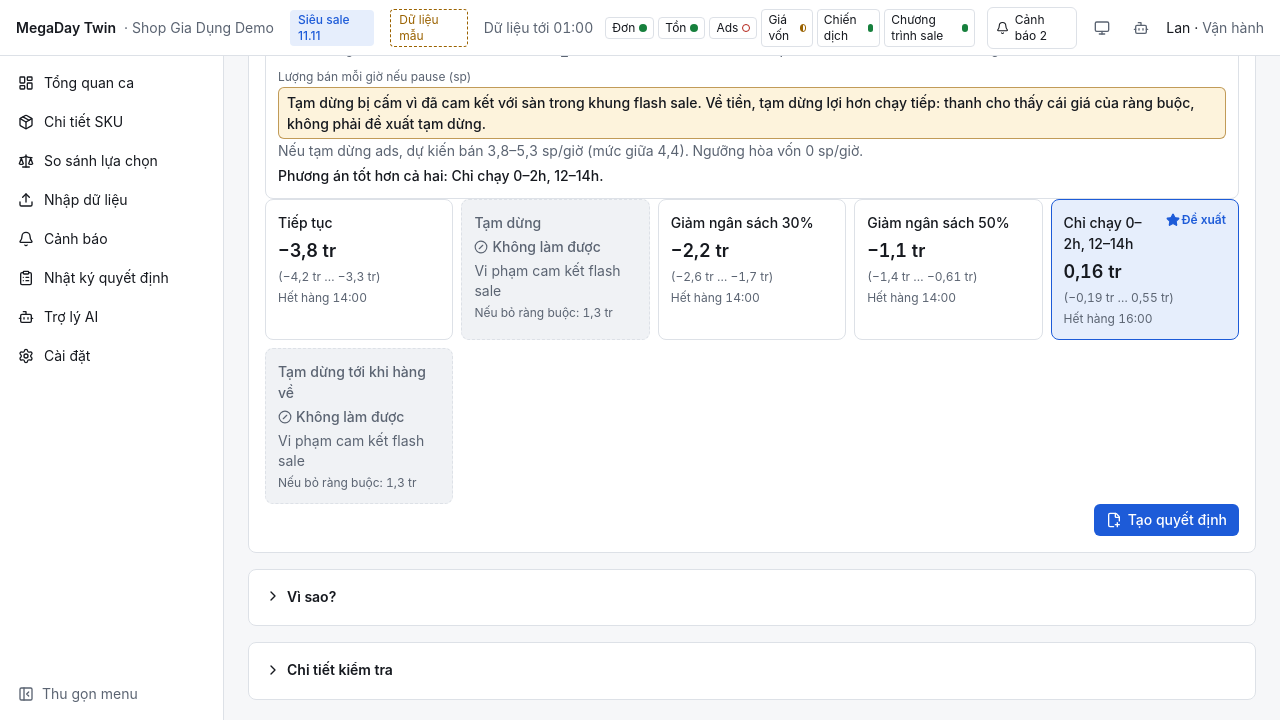
Test case: Compare screen · CD002 on 11.11 (API snapshot fixture) › tier 3: table of 5 actions with violations, and lineage
(page scrolled)
Click the button "Chi tiết kiểm tra" at (329,670), box [261, 655, 397, 684]
(page scrolled)
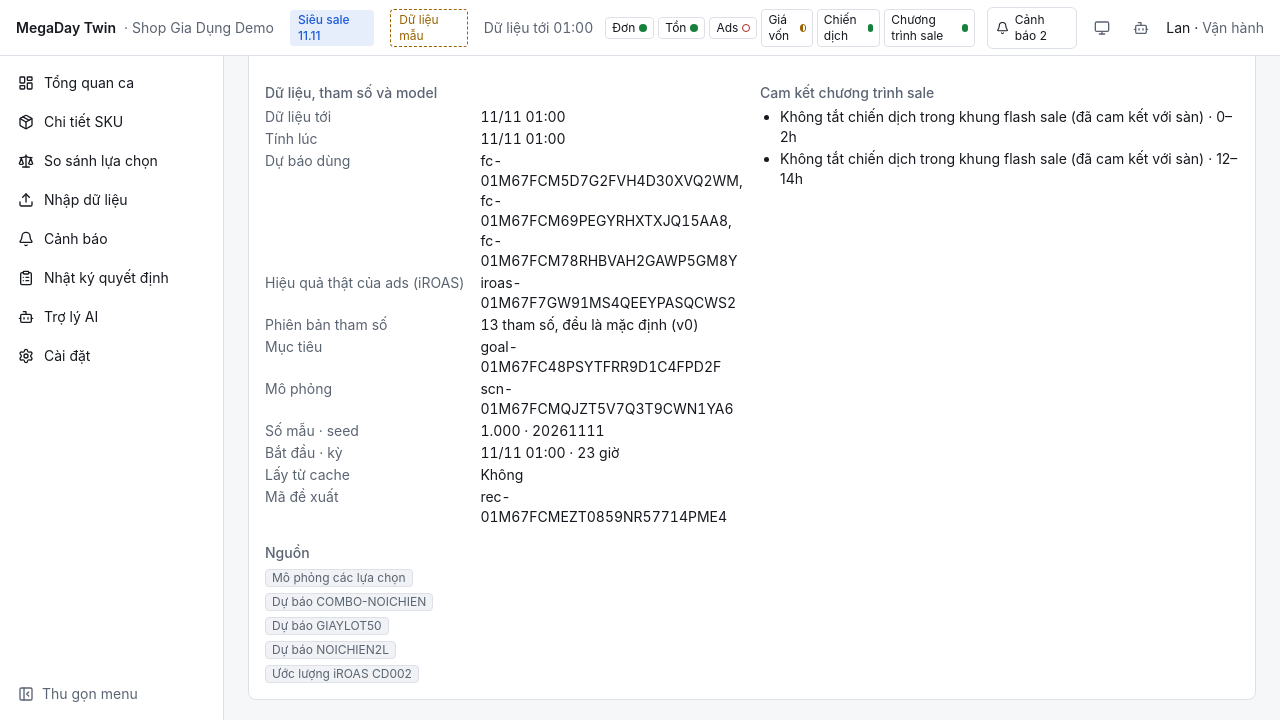
Expected: the text "iroas-01M67F7GW91MS4QEEYPASQCWS2" is shown, [480, 273, 744, 313]
Expected: the text "1.000 · 20261111" is shown, [480, 422, 605, 439]
